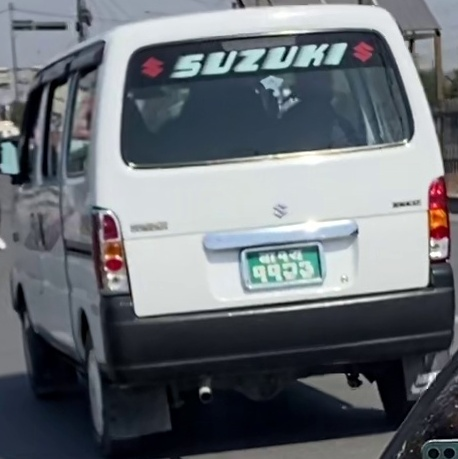license_plate: (245, 244, 321, 288)
